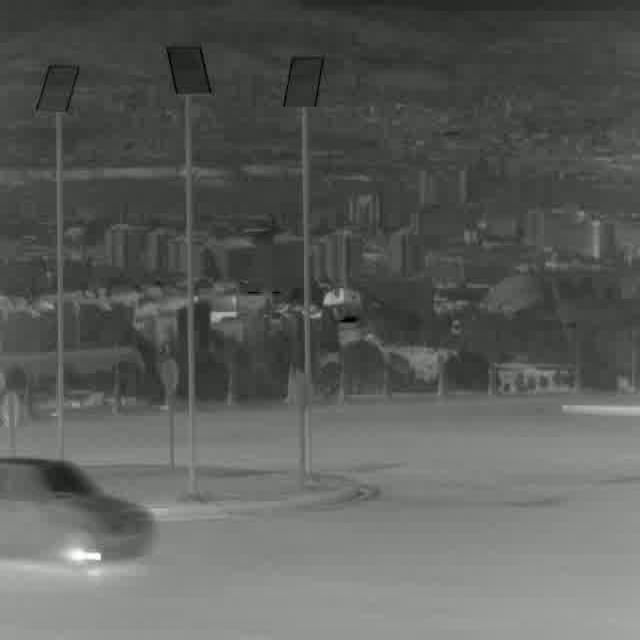Car: (0, 457, 155, 571)
